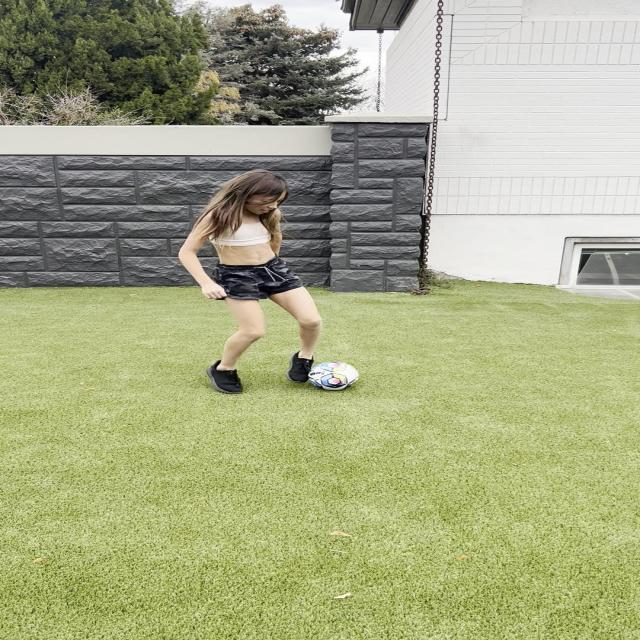Soccer Ball: (307, 362, 358, 391)
